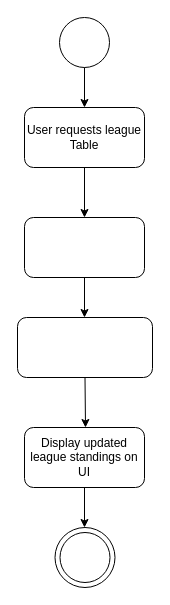
Some shapes in this 170 by 605 pixel diagram are drawn without their labels. The centre of each missing label's shape, as x and y in pixels:
"Fetch all team data from DB" goes at point 84,247.
"Sort teams by: Total points . Goal difference" goes at point 84,347.
